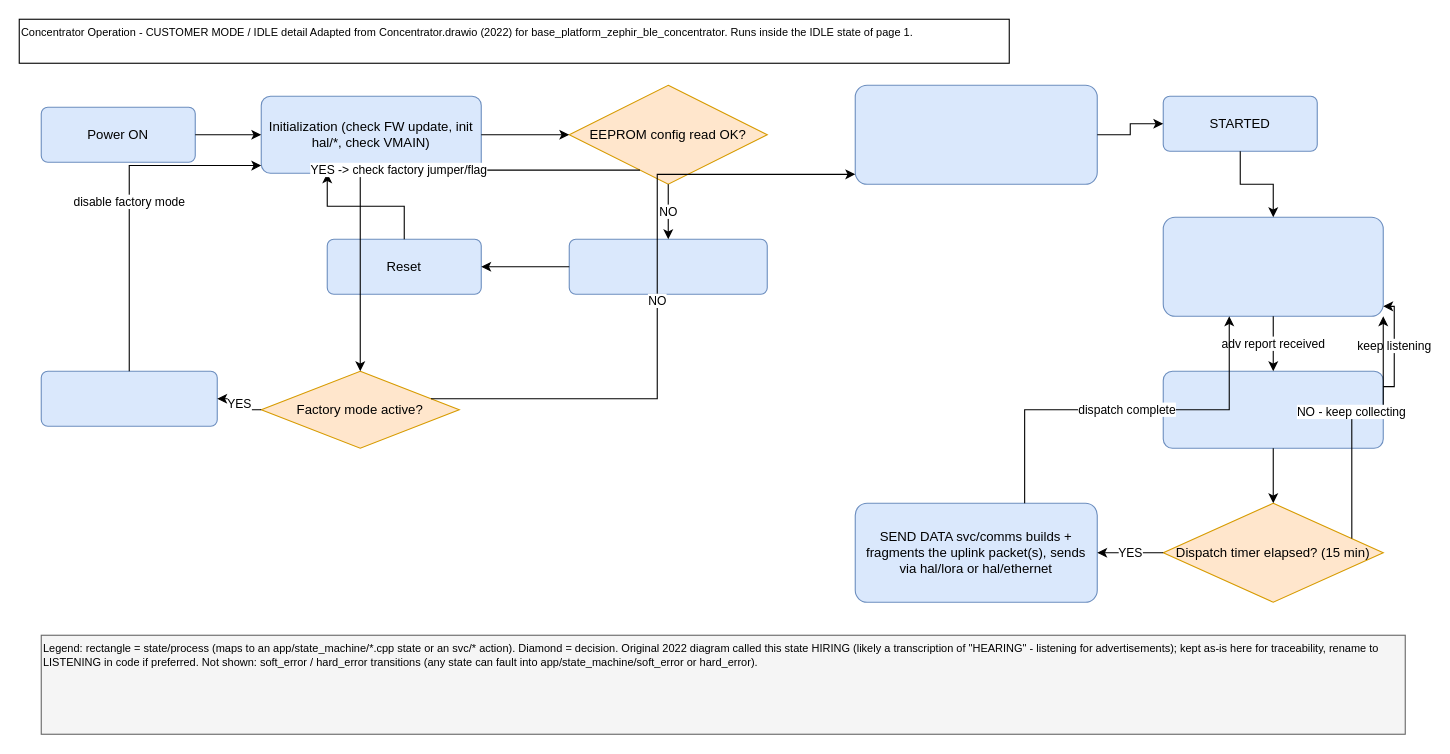
Some shapes in this 1450 by 754 pixel diagram are drawn without their labels. Here are the shapes that lost their labels. From the top down, the centre of each, then its label:
At [975,134]: "Read uplink backend from app/config.hpp (LoRa or Ethernet)".
At [667,266]: "Erase to defaults".
At [1272,266]: "HIRING svc/acquisition scans for BLE advertising sensor readings".
At [128,398]: "FACTORY MODE".
At [1272,409]: "COLLECT DATA svc/device_table buffers each reading keyed by BLE MAC".
